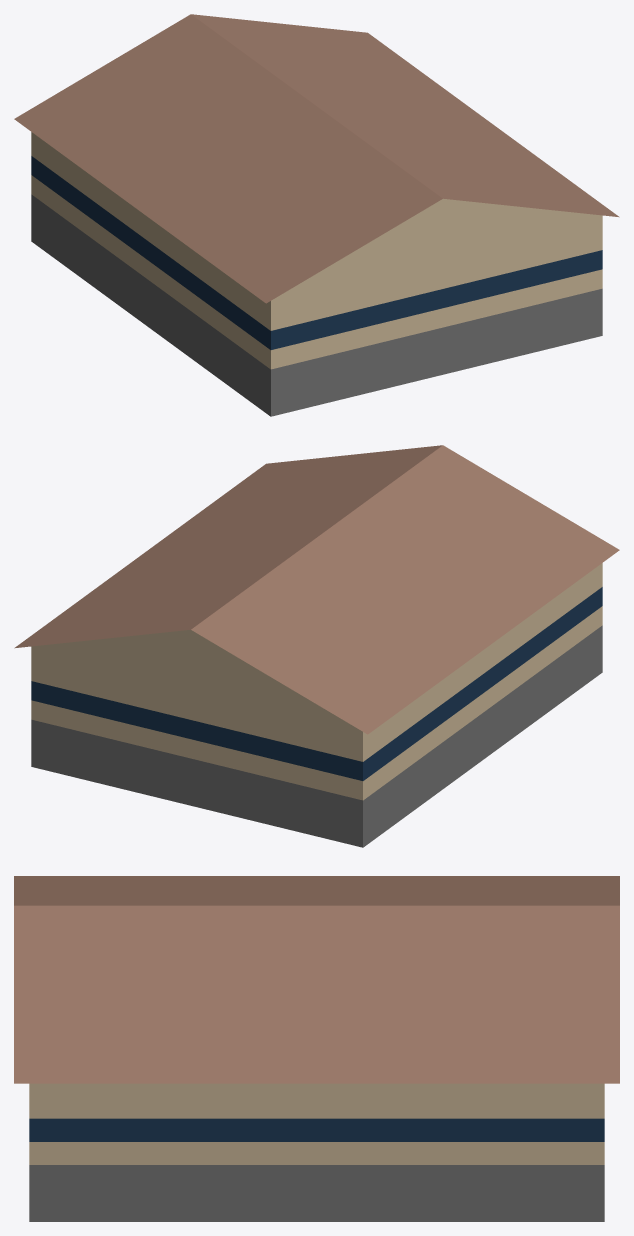
The model's file is far.fbx.
3 renders of one model, top to bottom at view 1: azimuth 30°, elevation 25°; view 2: azimuth 150°, elevation 25°; view 3: azimuth 270°, elevation 25°, orthographic. The views are drawn at different scales.
Visible parts, largest first — view 1: a2004/500/far; view 2: a2004/500/far; view 3: a2004/500/far.
Part boxes in pixels (<box>): a2004/500/far: <box>14,14,619,416</box>; a2004/500/far: <box>14,445,619,847</box>; a2004/500/far: <box>14,876,619,1221</box>.
Bounding box in the file's own units: 12.8 × 6.3 × 15.8.
